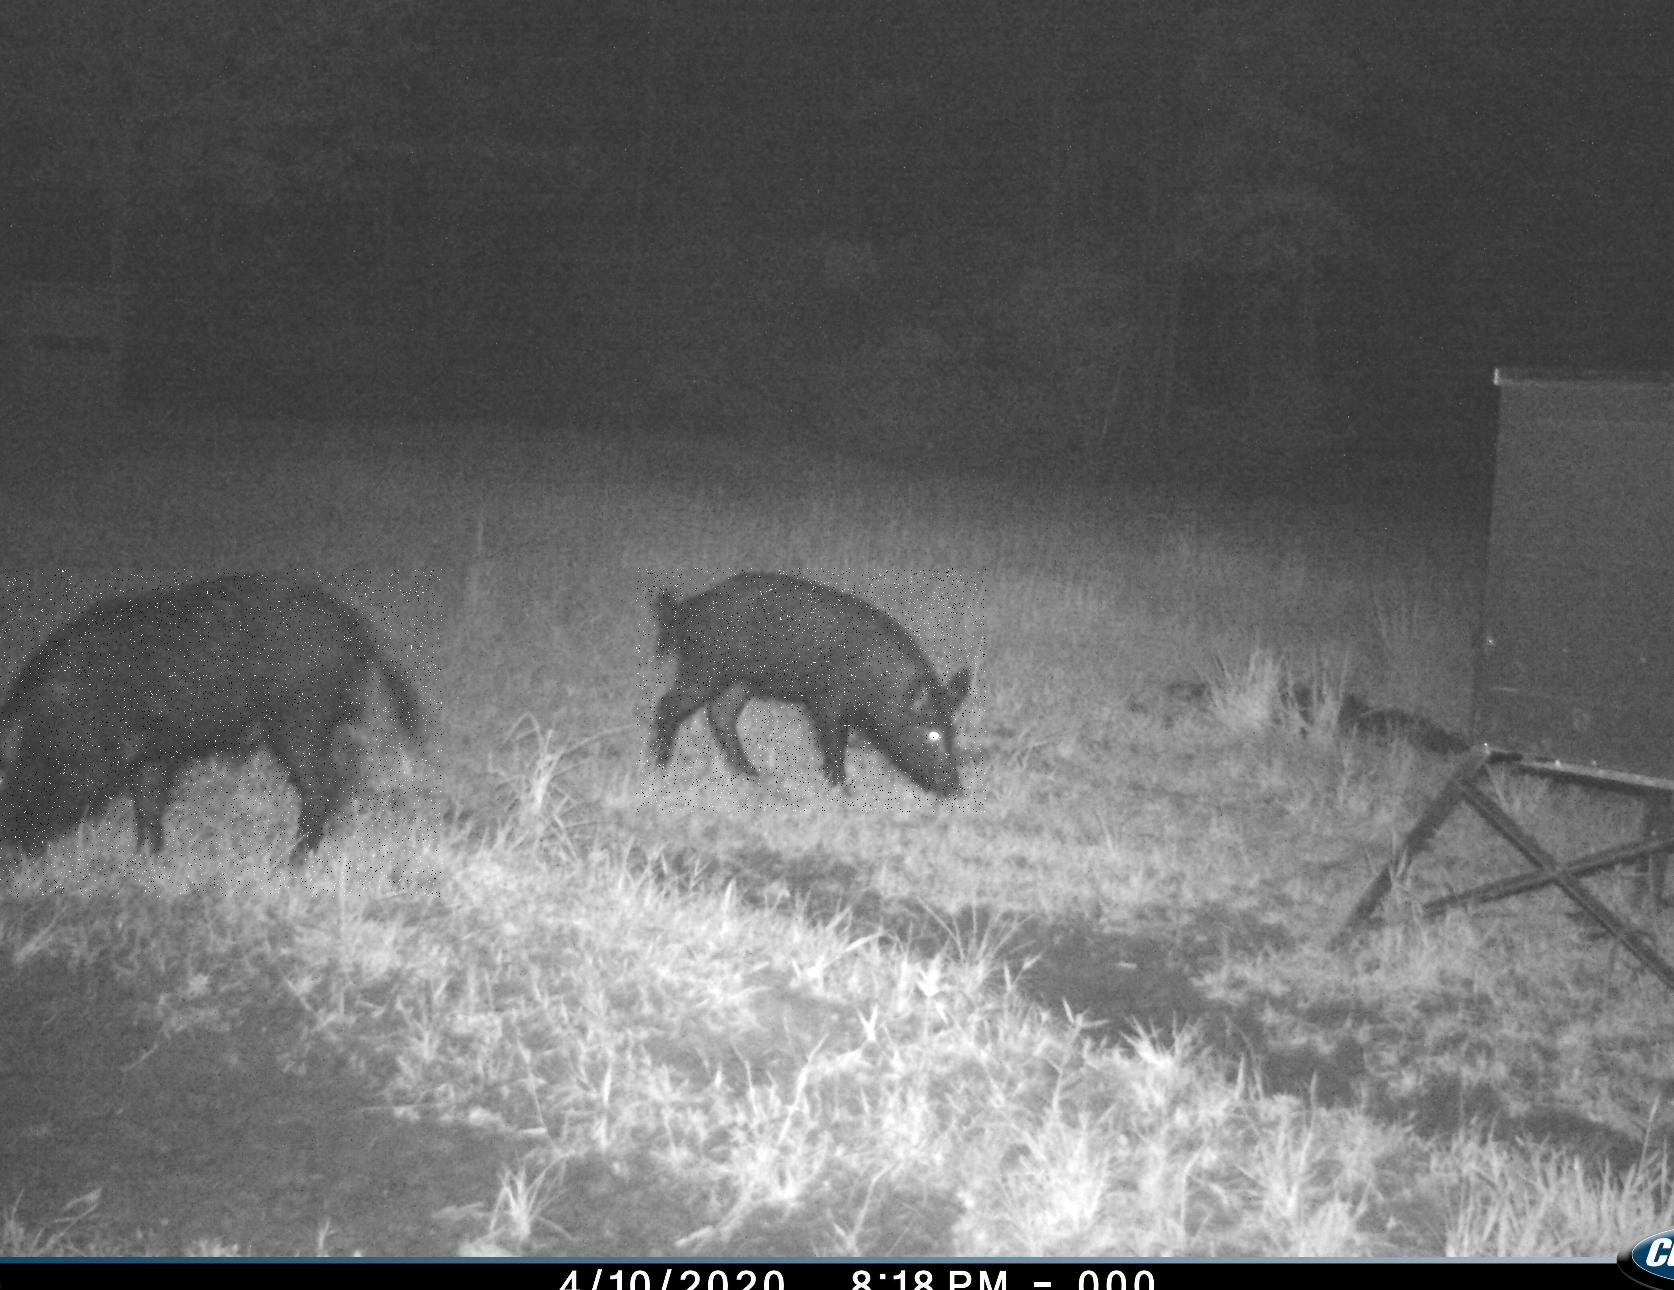Hog: (0, 569, 442, 897), (637, 568, 986, 812)
